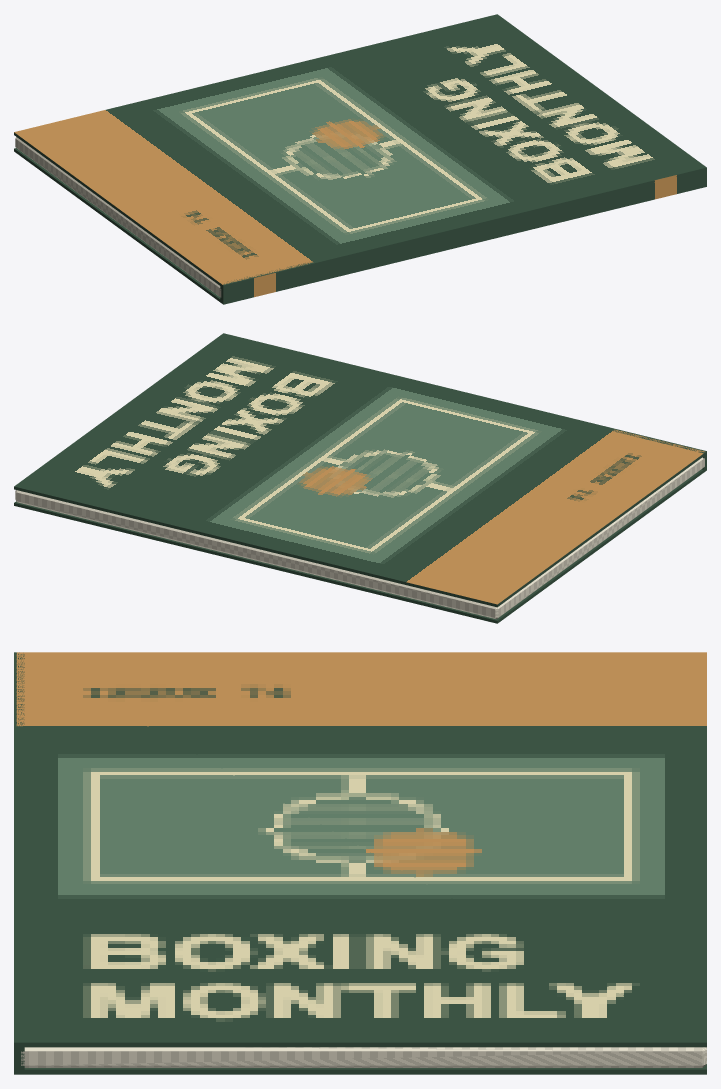
Rendered from mag_unarmed.glb.
3 views of the same model, one above another, from view 1: azimuth 30°, elevation 25°; view 2: azimuth 150°, elevation 25°; view 3: azimuth 270°, elevation 25° (orthographic). The views are drawn at different scales.
Visible parts, largest first — view 1: block_front, block_spine, block_pages, block_back; view 2: block_front, block_pages, block_back, block_spine; view 3: block_front, block_pages, block_back, block_spine.
Boxes of the visible parts, left/top/right/bottom form: block_front: left=14, top=14, right=705, bottom=287; block_spine: left=220, top=167, right=706, bottom=304; block_pages: left=15, top=137, right=221, bottom=297; block_back: left=14, top=148, right=222, bottom=303; block_front: left=14, top=334, right=706, bottom=607; block_pages: left=15, top=457, right=704, bottom=619; block_back: left=14, top=468, right=706, bottom=623; block_spine: left=220, top=333, right=706, bottom=470; block_front: left=16, top=652, right=706, bottom=1047; block_pages: left=21, top=1047, right=706, bottom=1067; block_back: left=16, top=1064, right=706, bottom=1074; block_spine: left=14, top=652, right=24, bottom=1074.
Bounding box in the file's own units: 0.2154 × 0.00821 × 0.1617.
Materials: 1 (1 with a texture image).
